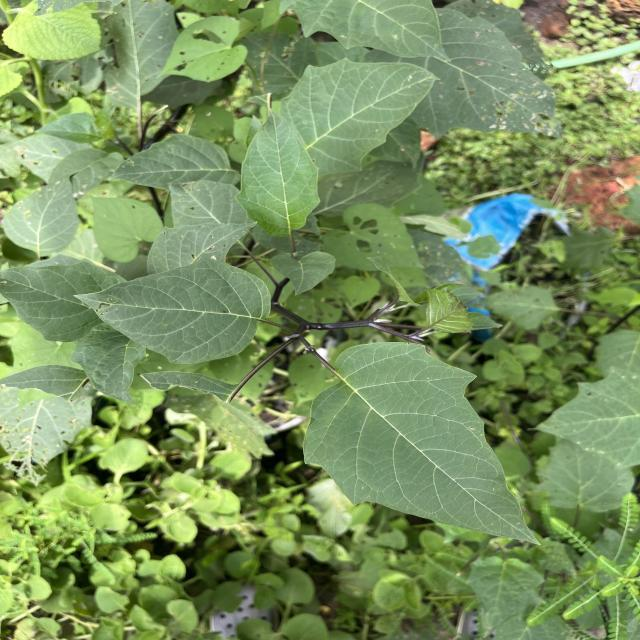Datura metal linn: (300, 340, 544, 550), (70, 255, 274, 366), (232, 105, 322, 239)
